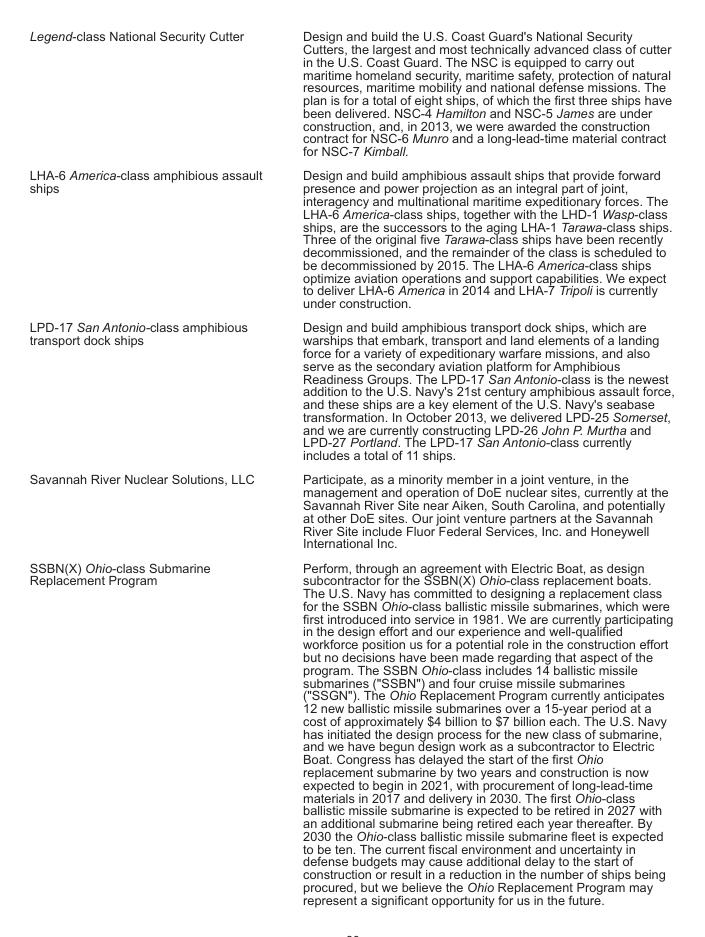table: (28, 28, 673, 906)
table column: (281, 28, 673, 906), (28, 28, 281, 906)
table row: (28, 555, 673, 906), (28, 162, 673, 314), (28, 314, 673, 466), (28, 28, 673, 162), (28, 466, 673, 555)
